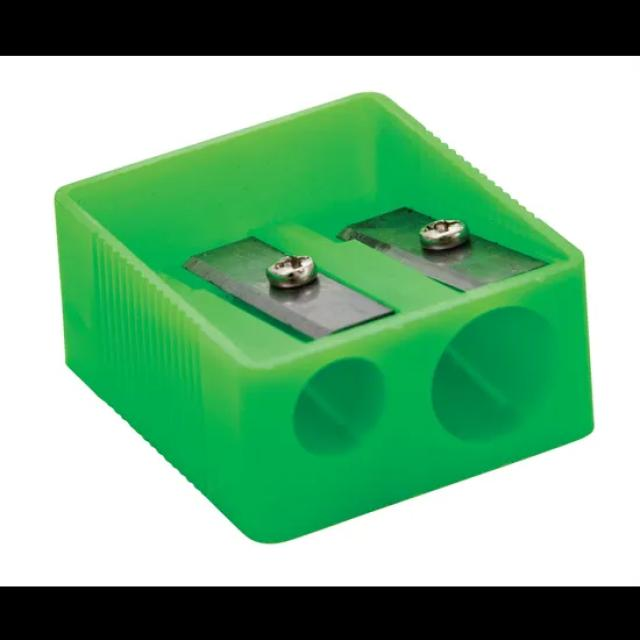pencil_sharpener: (29, 86, 640, 544)
